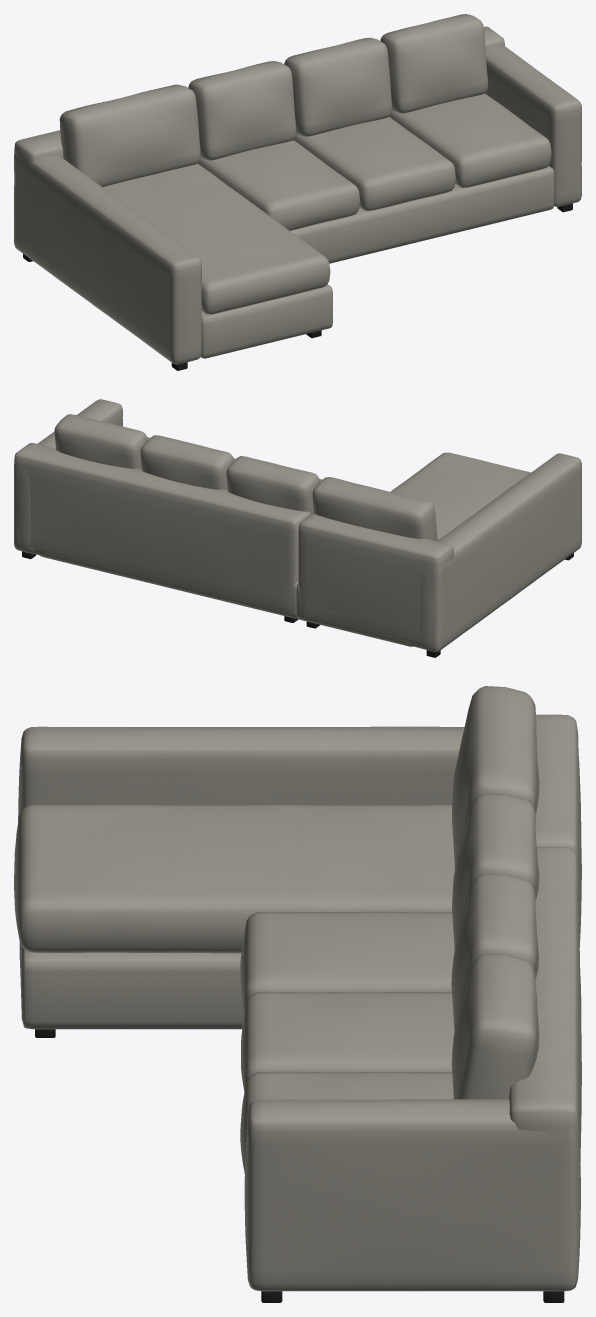
The model's file is sofa_chaise_izquierda_3p.glb.
3 views of the same model, one above another, from view 1: azimuth 30°, elevation 25°; view 2: azimuth 150°, elevation 25°; view 3: azimuth 270°, elevation 25° (orthographic). The views are drawn at different scales.
Visible parts, largest first — view 1: sofa_chaise_izquierda_3p; view 2: sofa_chaise_izquierda_3p; view 3: sofa_chaise_izquierda_3p.
Boxes of the visible parts, left/top/right/bottom form: sofa_chaise_izquierda_3p: left=14, top=14, right=581, bottom=370; sofa_chaise_izquierda_3p: left=14, top=399, right=581, bottom=657; sofa_chaise_izquierda_3p: left=14, top=686, right=581, bottom=1302.
Size of the model in its own units: 2.71 by 0.8267 by 1.63.
2 materials, 1 textured.
